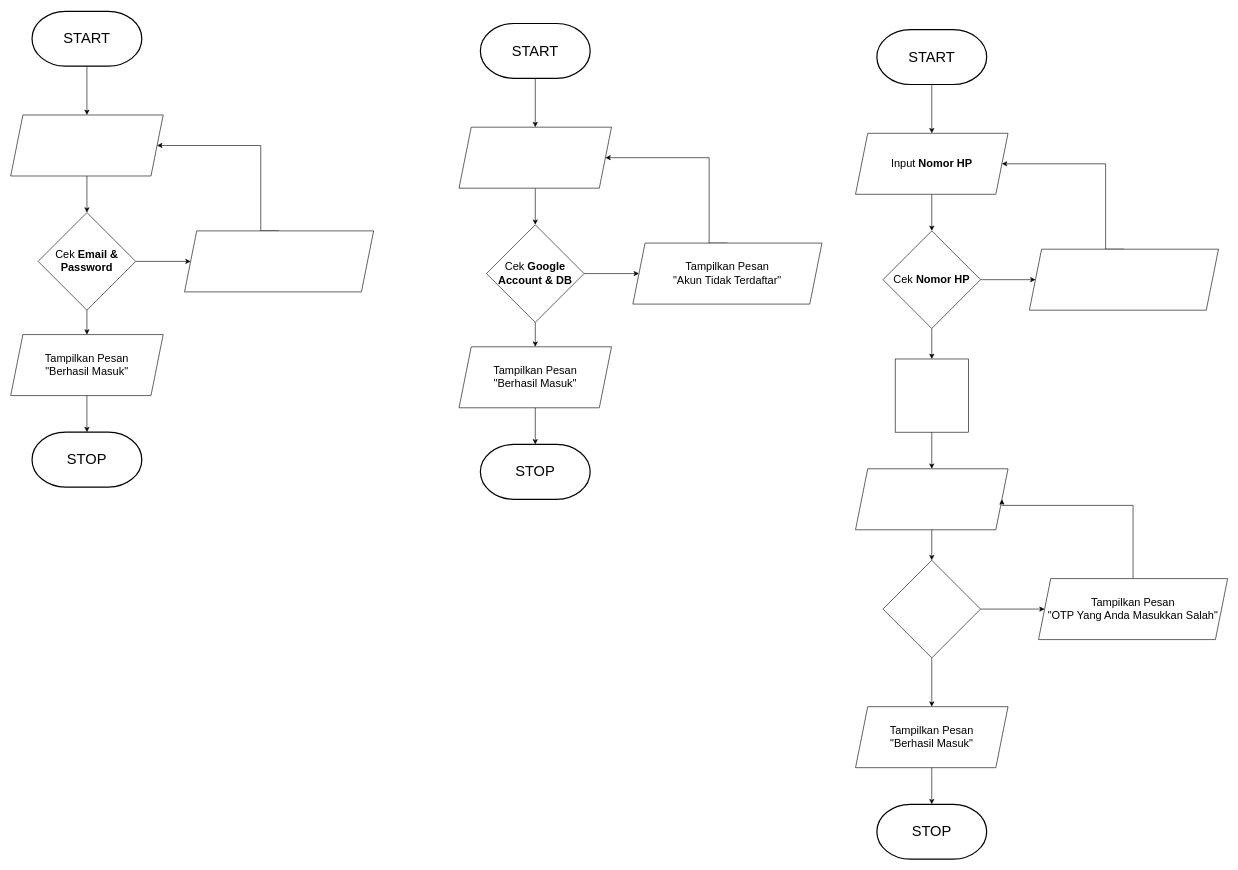
Image size: 1238x870. Some labels were removed from this diagram. Here are the shapes that lost their labels. From the top down, the centre of each, then its label:
point 86,145: Input Email & Password
point 535,157: Pilih Login Google
point 279,261: Tampilkan Pesan "Username & Password Salah"
point 1123,279: Tampilkan Pesan "NomorTidak Terdaftar"
point 931,395: Kirim OTP ke Pengguna
point 931,499: Input OTP
point 931,609: Cek OTP
